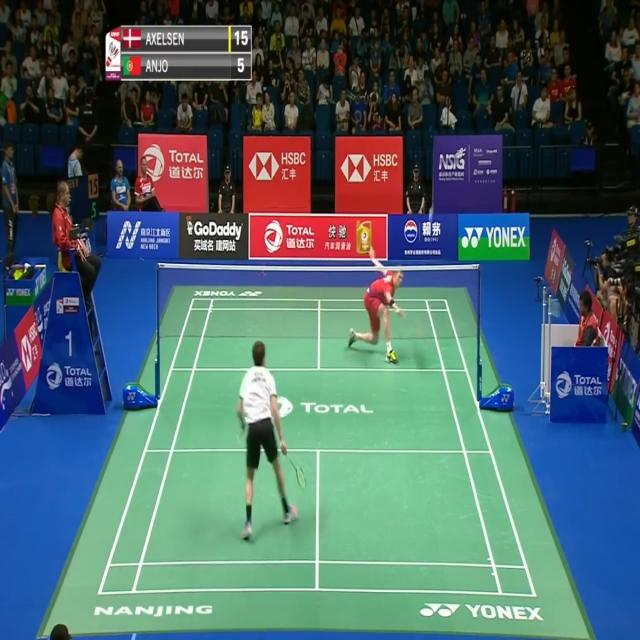Player1: (232, 339, 312, 541)
Player2: (344, 246, 412, 371)
